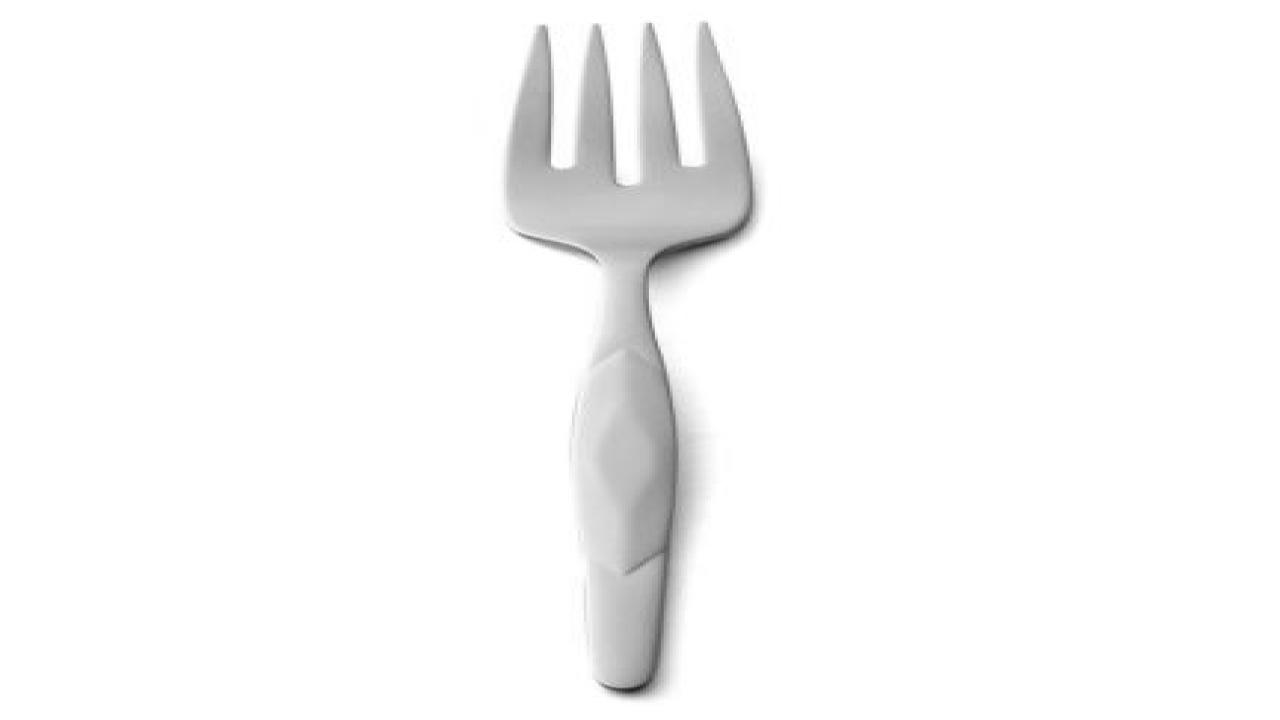fork: (498, 19, 756, 691)
